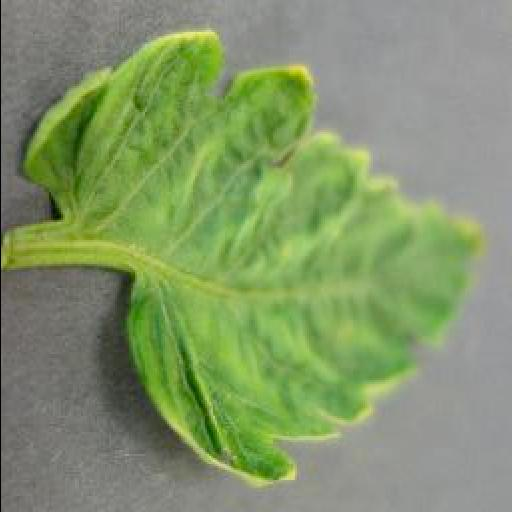disease_tomato: (18, 31, 482, 487)
